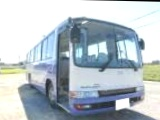bus: (23, 14, 148, 120)
